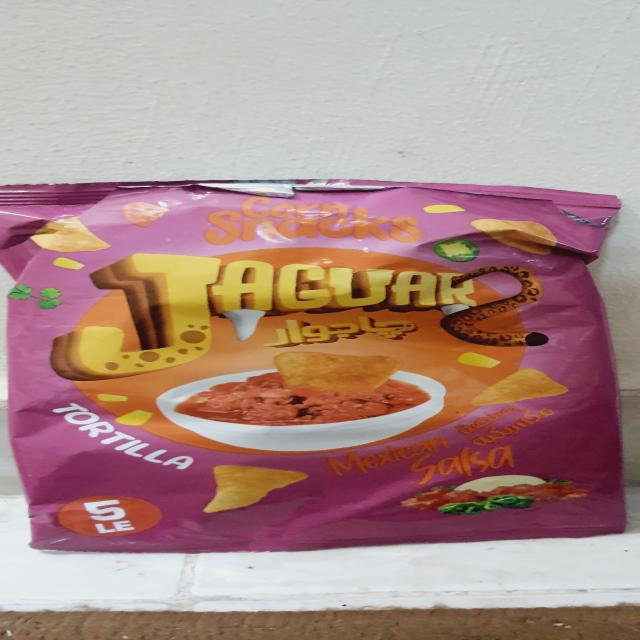Metal: (4, 178, 625, 552)
